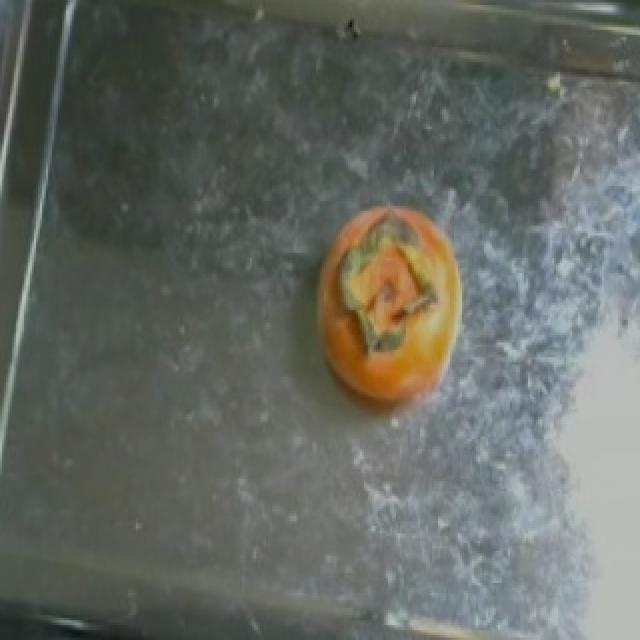Fruit: (294, 184, 486, 439)
